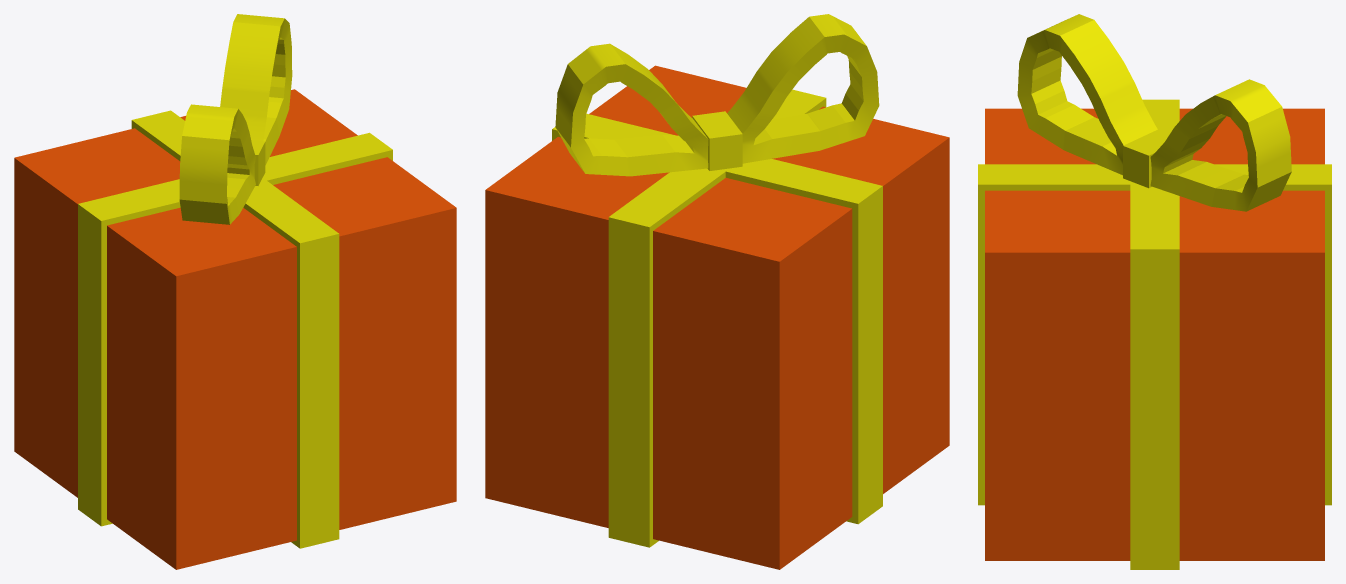
The model's file is Present1.fbx.
The picture shows the model from 3 angles, left to right: view 1: azimuth 30°, elevation 25°; view 2: azimuth 150°, elevation 25°; view 3: azimuth 270°, elevation 25°; orthographic projection. The views are drawn at different scales.
Visible parts, largest first — view 1: Present1; view 2: Present1; view 3: Present1.
Part boxes in pixels (x1=…): Present1: x1=14, y1=14, x2=456, y2=569; Present1: x1=485, y1=14, x2=949, y2=569; Present1: x1=978, y1=14, x2=1331, y2=569.
Size of the model in its own units: 5.2 by 7.1 by 5.2.
